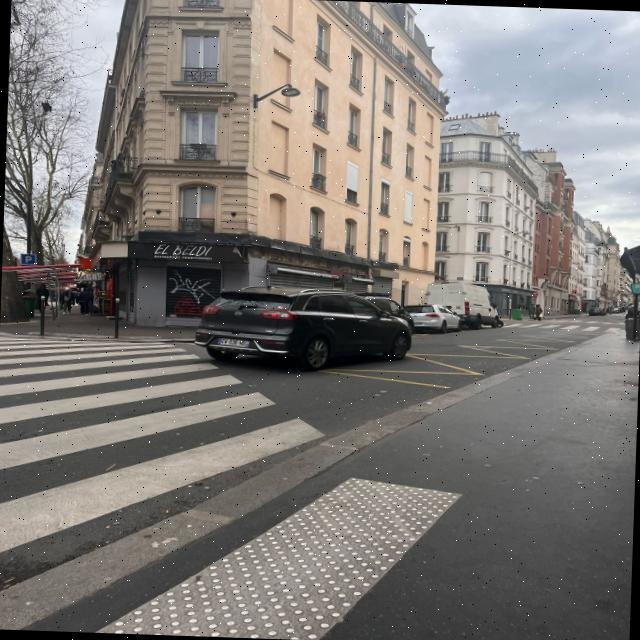Autre: (214, 334, 258, 348)
